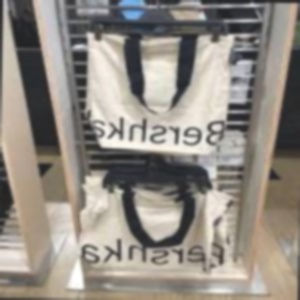bershka: (162, 63, 246, 300), (183, 57, 272, 170)
